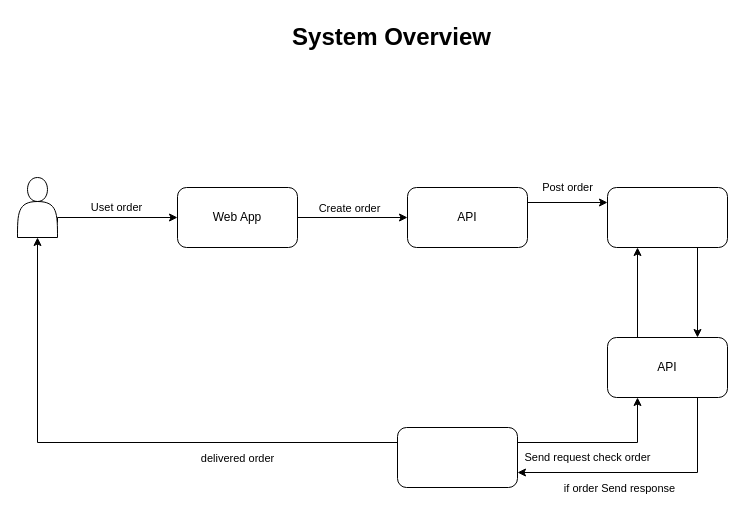
Some shapes in this 745 by 511 pixel diagram are drawn without their labels. Each missing label, with the centre of its shape:
Database: the point at 667,217
Machine: the point at 457,457
